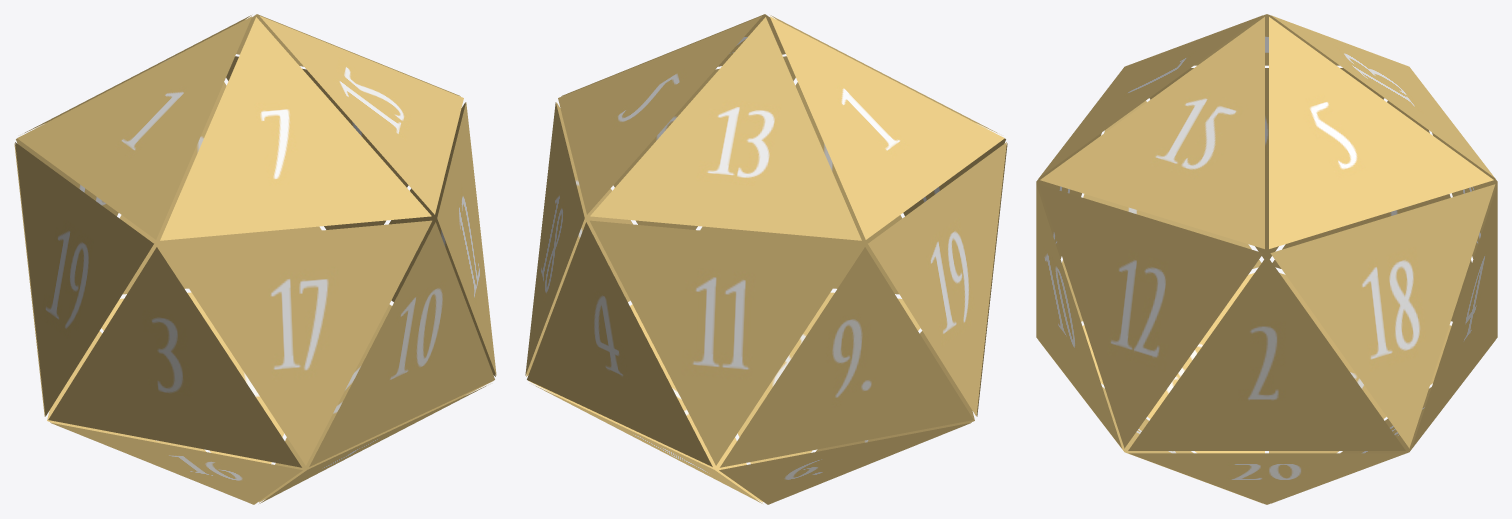
File: D20 Sides.fbx
The picture shows the model from 3 angles, left to right: view 1: azimuth 30°, elevation 25°; view 2: azimuth 150°, elevation 25°; view 3: azimuth 270°, elevation 25°; orthographic projection.
Parts seen in each view (by area): view 1: 17, 7, 3, 1, 19, 10, 15, 12, 16, 4, 2, 20 (+6 smaller); view 2: 11, 13, 9, 1, 19, 4, 5, 18, 6, 10, 2, 20 (+6 smaller); view 3: 2, 12, 18, 5, 15, 20, 4, 10, 7, 13, 6, 16 (+8 smaller).
Part boxes in pixels (bbox=[...]): 17: bbox=[160, 220, 431, 465]; 7: bbox=[160, 17, 431, 240]; 3: bbox=[48, 247, 301, 467]; 1: bbox=[17, 16, 251, 239]; 19: bbox=[15, 142, 153, 416]; 10: bbox=[309, 222, 494, 466]; 15: bbox=[260, 16, 463, 214]; 12: bbox=[437, 102, 496, 375]; 16: bbox=[50, 422, 302, 504]; 4: bbox=[119, 82, 321, 294]; 2: bbox=[389, 102, 495, 376]; 20: bbox=[259, 304, 492, 502]; 11: bbox=[590, 220, 861, 465]; 13: bbox=[590, 17, 861, 240]; 9: bbox=[720, 247, 973, 467]; 1: bbox=[770, 16, 1004, 239]; 19: bbox=[868, 142, 1006, 416]; 4: bbox=[527, 222, 712, 466]; 5: bbox=[558, 16, 761, 214]; 18: bbox=[525, 102, 584, 375]; 6: bbox=[719, 422, 971, 504]; 10: bbox=[700, 82, 902, 294]; 2: bbox=[526, 102, 632, 376]; 20: bbox=[529, 304, 762, 502]; 2: bbox=[1128, 256, 1405, 450]; 12: bbox=[1038, 184, 1263, 448]; 18: bbox=[1270, 184, 1495, 448]; 5: bbox=[1269, 17, 1493, 248]; 15: bbox=[1040, 17, 1264, 248]; 20: bbox=[1128, 453, 1405, 504]; 4: bbox=[1412, 185, 1497, 448]; 10: bbox=[1036, 185, 1121, 448]; 7: bbox=[1039, 15, 1262, 177]; 13: bbox=[1271, 15, 1494, 177]; 6: bbox=[1269, 273, 1451, 453]; 16: bbox=[1082, 273, 1264, 453].
Size of the model in its own units: 16.49 by 18.32 by 15.69.
Materials: 1 (1 with a texture image).
